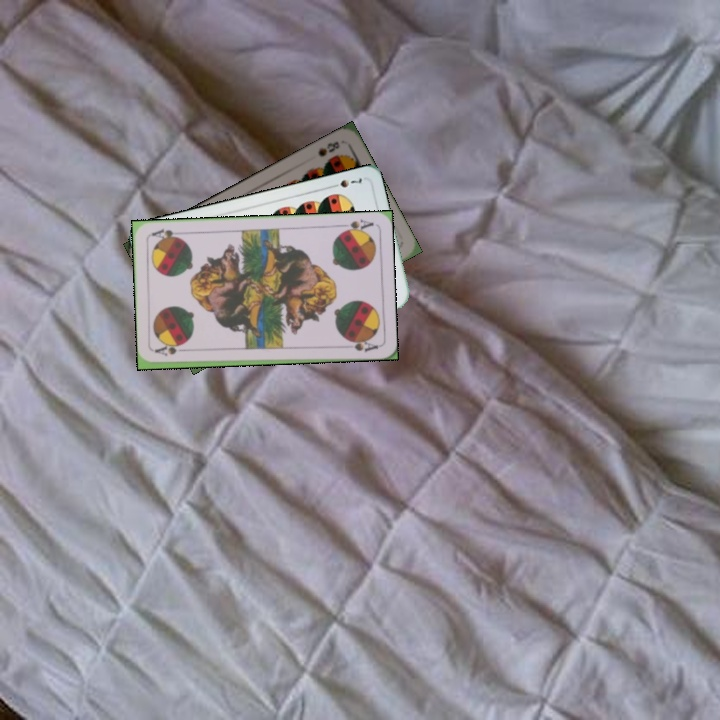S7: (326, 173, 365, 191)
S8: (314, 137, 343, 159)
SA: (335, 215, 376, 236), (152, 344, 192, 358)
